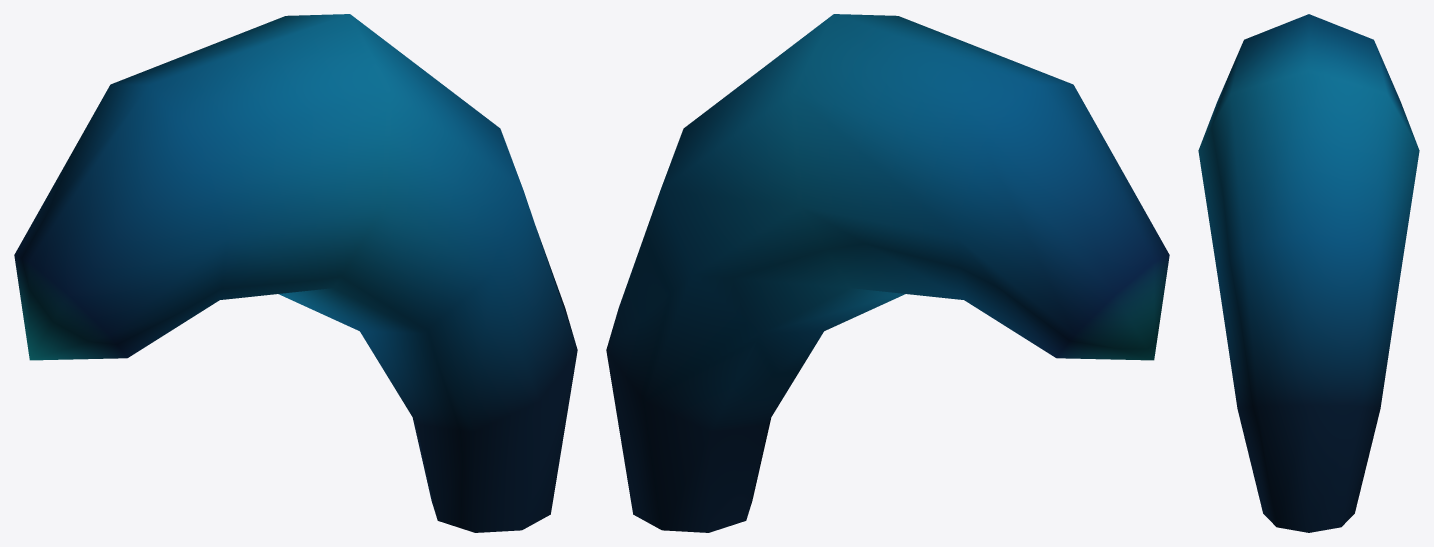
Rendered from Alien_Ivy09.fbx.
3 views of the same model, side by side, from view 1: azimuth 30°, elevation 25°; view 2: azimuth 150°, elevation 25°; view 3: azimuth 270°, elevation 25° (orthographic). The views are drawn at different scales.
Visible parts, largest first — view 1: Alien_Ivy09; view 2: Alien_Ivy09; view 3: Alien_Ivy09.
Boxes of the visible parts, <box> form: Alien_Ivy09: <box>14,14,577,532</box>; Alien_Ivy09: <box>606,14,1169,532</box>; Alien_Ivy09: <box>1198,14,1419,532</box>.
Size of the model in its own units: 457 by 430 by 220.
